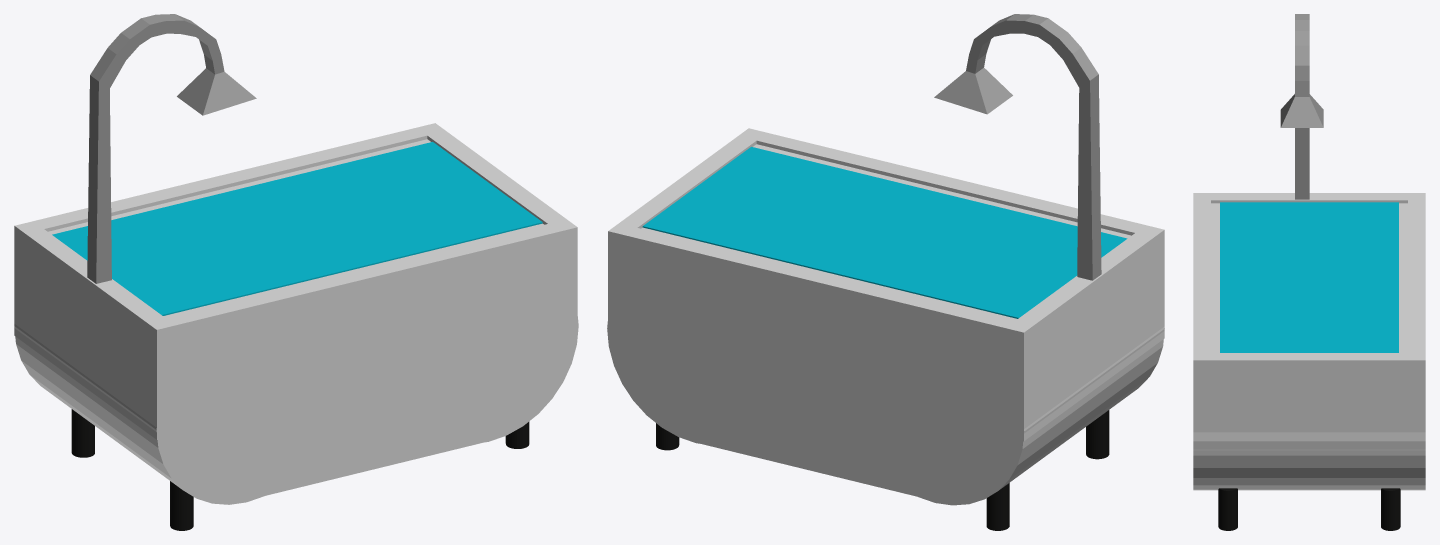
File: Bathtub.fbx
3 views of the same model, side by side, from view 1: azimuth 30°, elevation 25°; view 2: azimuth 150°, elevation 25°; view 3: azimuth 270°, elevation 25° (orthographic). The views are drawn at different scales.
Parts seen in each view (by area): view 1: Bath Basin; view 2: Bath Basin; view 3: Bath Basin.
Part boxes in pixels (x1,y1,x2,y2): Bath Basin: (14, 14, 578, 530); Bath Basin: (607, 14, 1164, 530); Bath Basin: (1193, 14, 1425, 530).
Size of the model in its own units: 171 by 182 by 100.
